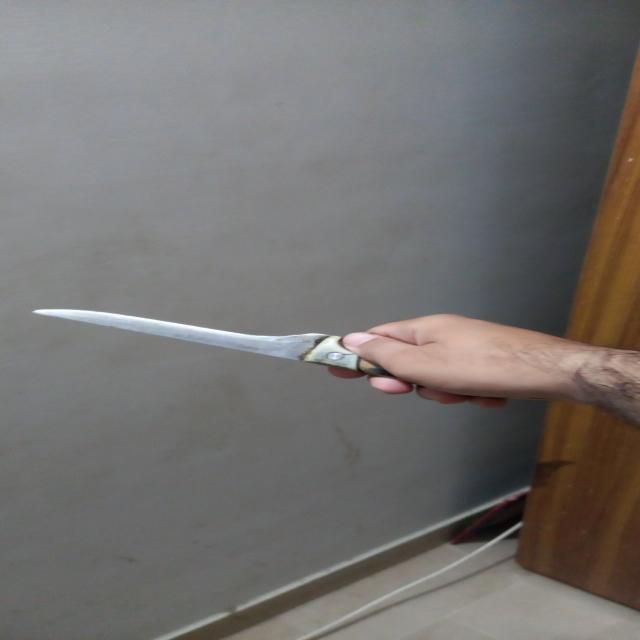knife: (36, 292, 534, 410)
